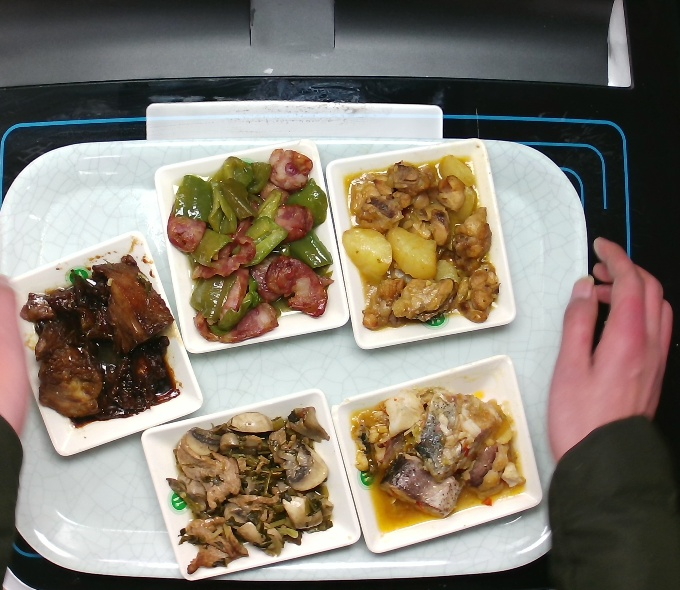wcq-JiangZhiYa: (20, 254, 182, 427)
wcq-MoGuRouPian: (171, 404, 332, 570)
wcq-QingJiaoXiangChang: (165, 147, 334, 346)
wcq-SuanCaiYu: (349, 383, 528, 532)
wcq-TuDouJiKuai: (344, 154, 503, 332)
